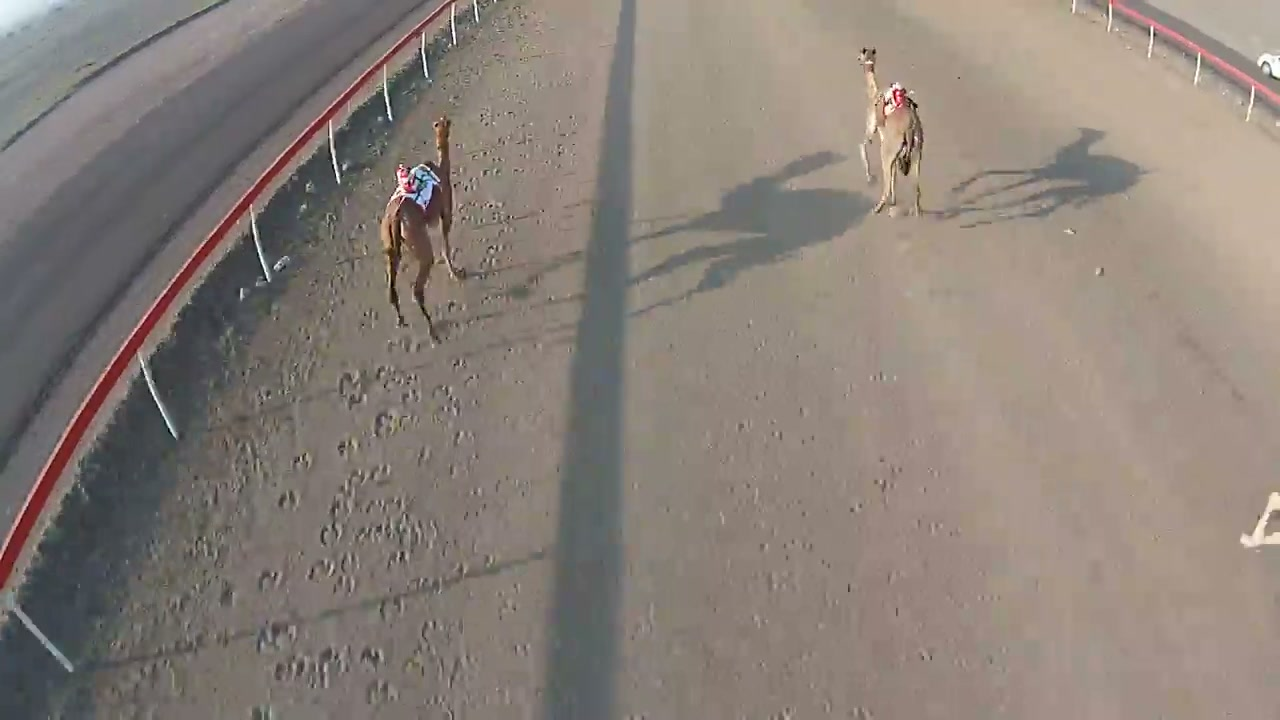animal_foot_print: (218, 336, 497, 708)
